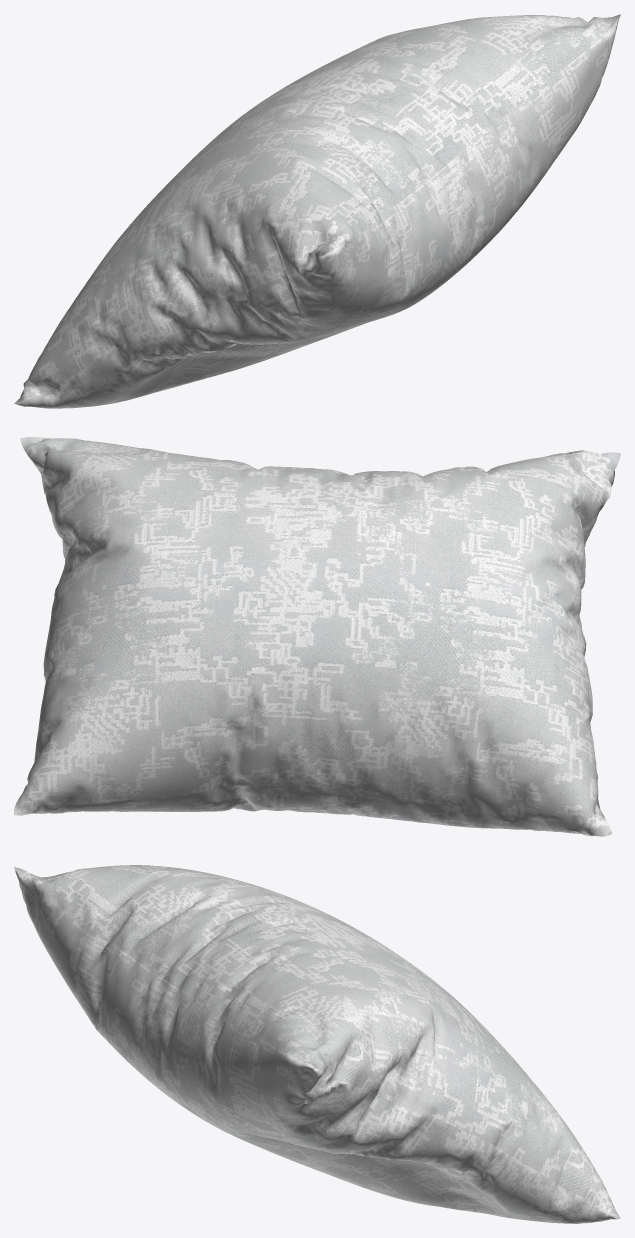
3 views of the same model, one above another, from view 1: azimuth 30°, elevation 25°; view 2: azimuth 150°, elevation 25°; view 3: azimuth 270°, elevation 25° (orthographic).
Visible parts, largest first — view 1: pillow_3; view 2: pillow_3; view 3: pillow_3.
Boxes of the visible parts, x1,y1,x2,y2 form: pillow_3: (14, 14, 620, 408); pillow_3: (14, 437, 620, 836); pillow_3: (14, 865, 620, 1223).
Bounding box in the file's own units: 0.8625 × 0.3894 × 0.7676.
1 material, 1 textured.
